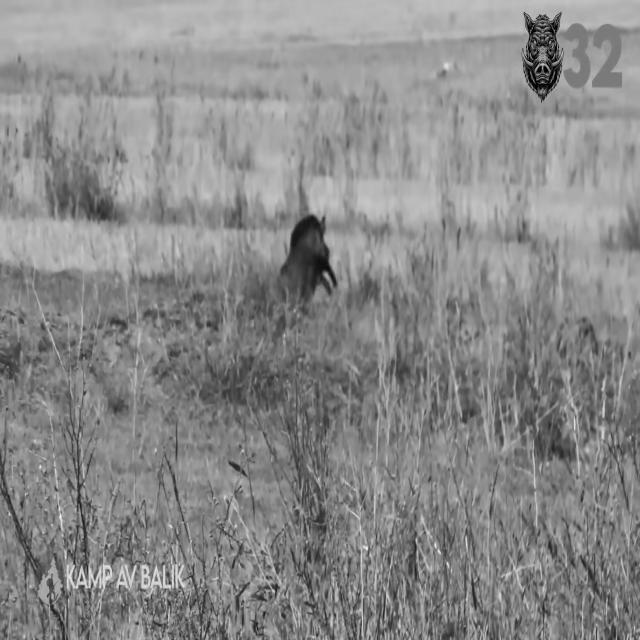boar: (279, 215, 336, 299)
